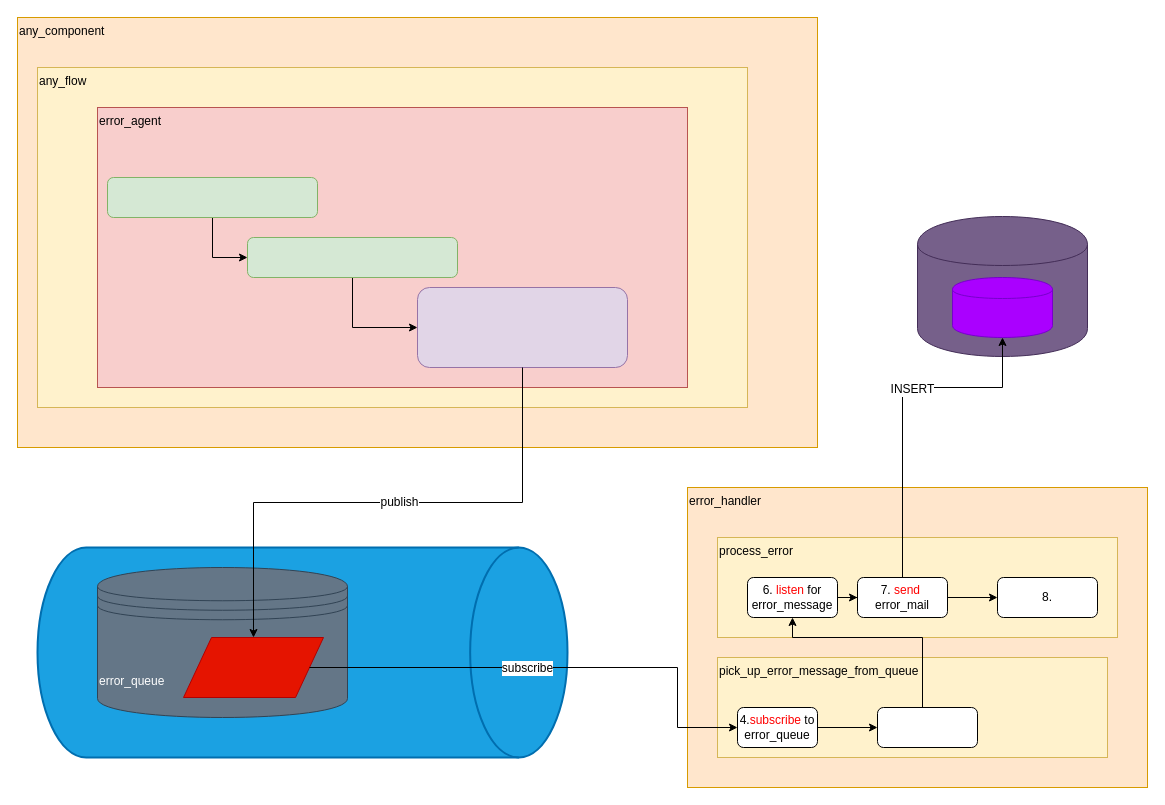
This 1165x805 diagram has some shape labels left out. The centre of each missing label's shape, as x and y in pixels:
1. set_variable component_name = any_component: point (212, 197)
2. set_variable flow_name = any_flow: point (352, 257)
3. publish _to_error_queue component_name flow_name time_stamp error: point (522, 327)
5. request process_error: point (927, 727)
component_name flow_name time_stamp error: point (253, 667)
error_log: point (1002, 307)
